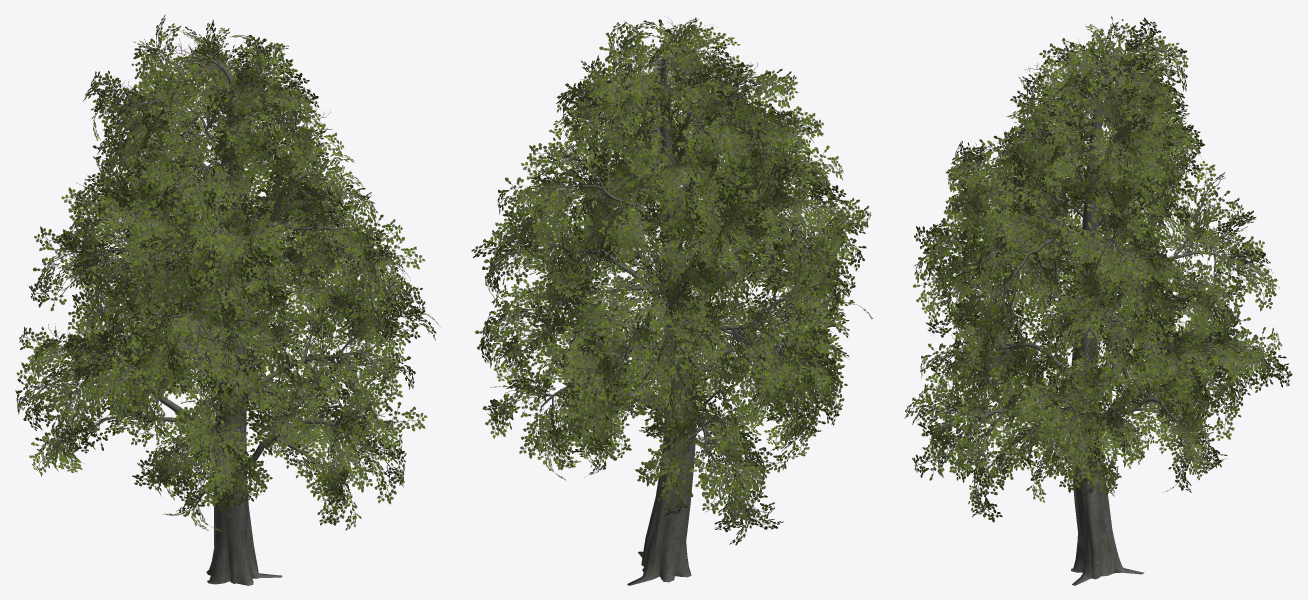
File: tree-linden-12m.glb
The picture shows the model from 3 angles, left to right: view 1: azimuth 30°, elevation 25°; view 2: azimuth 150°, elevation 25°; view 3: azimuth 270°, elevation 25°; orthographic projection. The views are drawn at different scales.
Visible parts, largest first — view 1: Linden_LOD0_M_Branch.005_0, Linden_LOD0_M_Bark.005_0; view 2: Linden_LOD0_M_Branch.005_0, Linden_LOD0_M_Bark.005_0; view 3: Linden_LOD0_M_Branch.005_0, Linden_LOD0_M_Bark.005_0.
Boxes of the visible parts, bbox=[...] form: Linden_LOD0_M_Branch.005_0: bbox=[15, 14, 440, 531]; Linden_LOD0_M_Bark.005_0: bbox=[34, 39, 403, 585]; Linden_LOD0_M_Branch.005_0: bbox=[471, 16, 872, 545]; Linden_LOD0_M_Bark.005_0: bbox=[486, 41, 835, 585]; Linden_LOD0_M_Branch.005_0: bbox=[904, 16, 1292, 522]; Linden_LOD0_M_Bark.005_0: bbox=[923, 44, 1268, 585].
Bounding box in the file's own units: 10.12 × 15.63 × 10.4.
2 materials, 2 textured.
